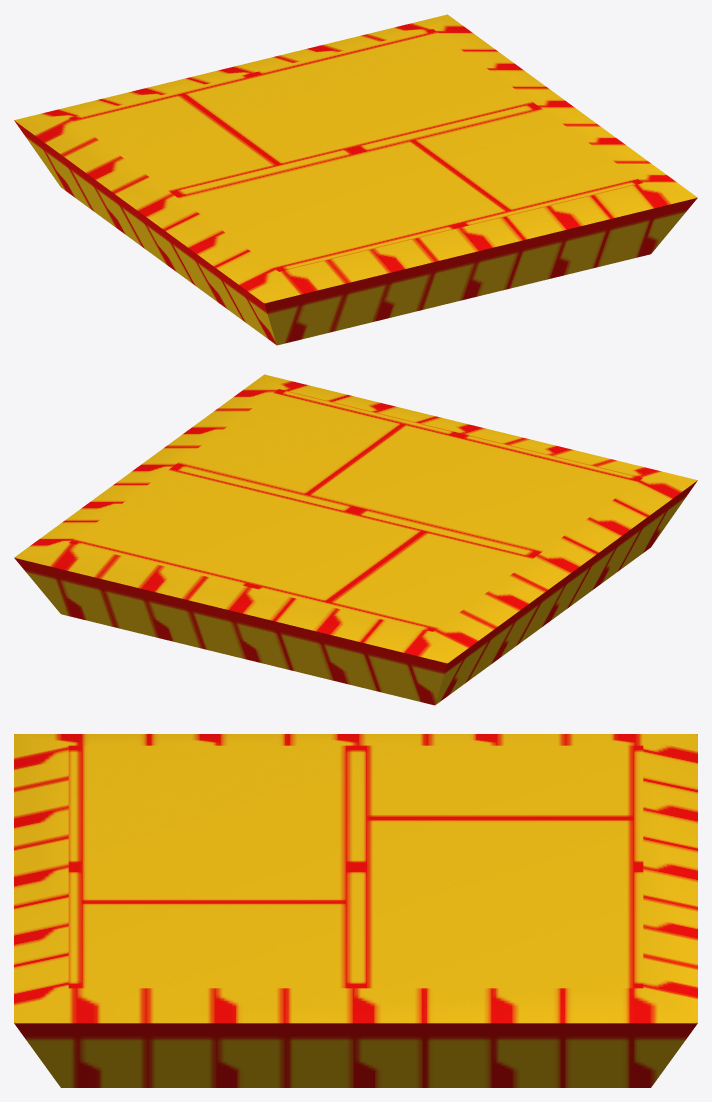
File: floor_3x3_01.fbx
The picture shows the model from 3 angles, top to bottom: view 1: azimuth 30°, elevation 25°; view 2: azimuth 150°, elevation 25°; view 3: azimuth 270°, elevation 25°; orthographic projection. The views are drawn at different scales.
Visible parts, largest first — view 1: floor_3x3_01; view 2: floor_3x3_01; view 3: floor_3x3_01.
Boxes of the visible parts, bbox=[...] form: floor_3x3_01: bbox=[14, 14, 697, 345]; floor_3x3_01: bbox=[14, 374, 697, 705]; floor_3x3_01: bbox=[14, 734, 697, 1087].
Bounding box in the file's own units: 357 × 55.37 × 357.
1 material, 1 textured.
